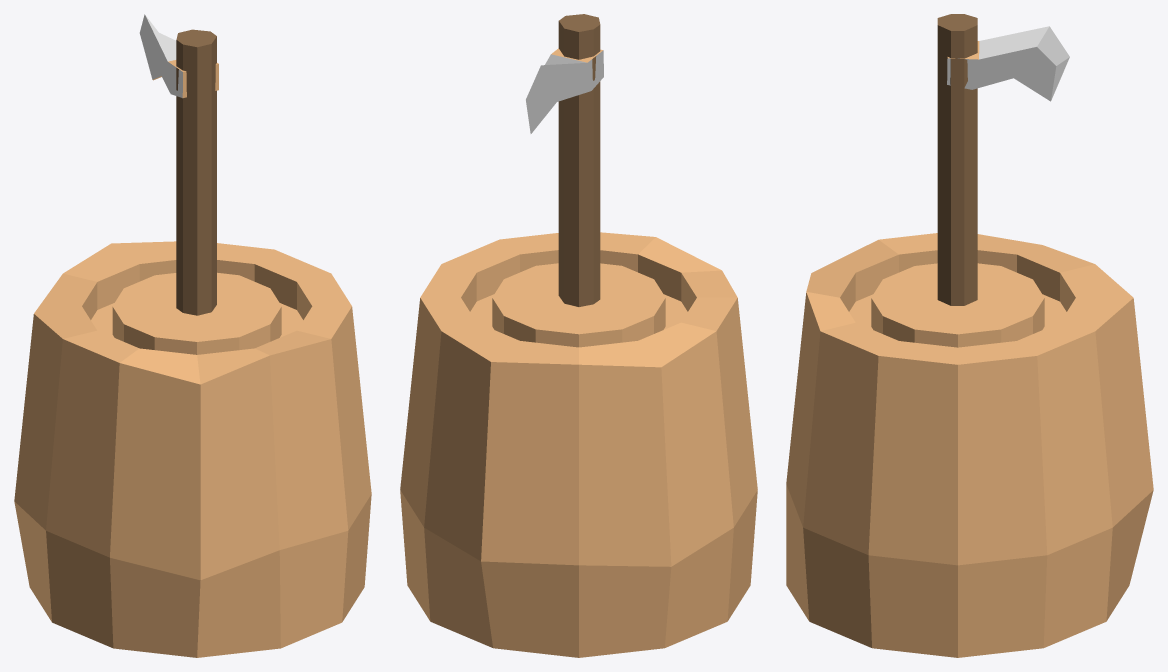
The model's file is cc_chopping_block1.fbx.
3 views of the same model, side by side, from view 1: azimuth 30°, elevation 25°; view 2: azimuth 150°, elevation 25°; view 3: azimuth 270°, elevation 25° (orthographic). The views are drawn at different scales.
Parts seen in each view (by area): view 1: Cylinder; view 2: Cylinder; view 3: Cylinder.
Boxes of the visible parts, <box> form: Cylinder: <box>14,14,371,657</box>; Cylinder: <box>400,14,757,657</box>; Cylinder: <box>786,14,1153,657</box>.
Size of the model in its own units: 225 by 391 by 231.
